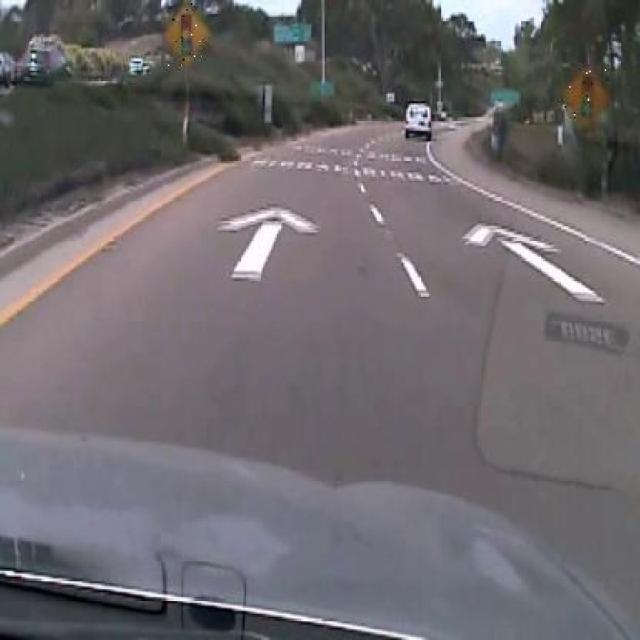signalAhead: (162, 3, 210, 68), (563, 65, 609, 128)
